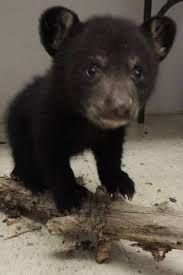bear: (5, 4, 177, 215)
